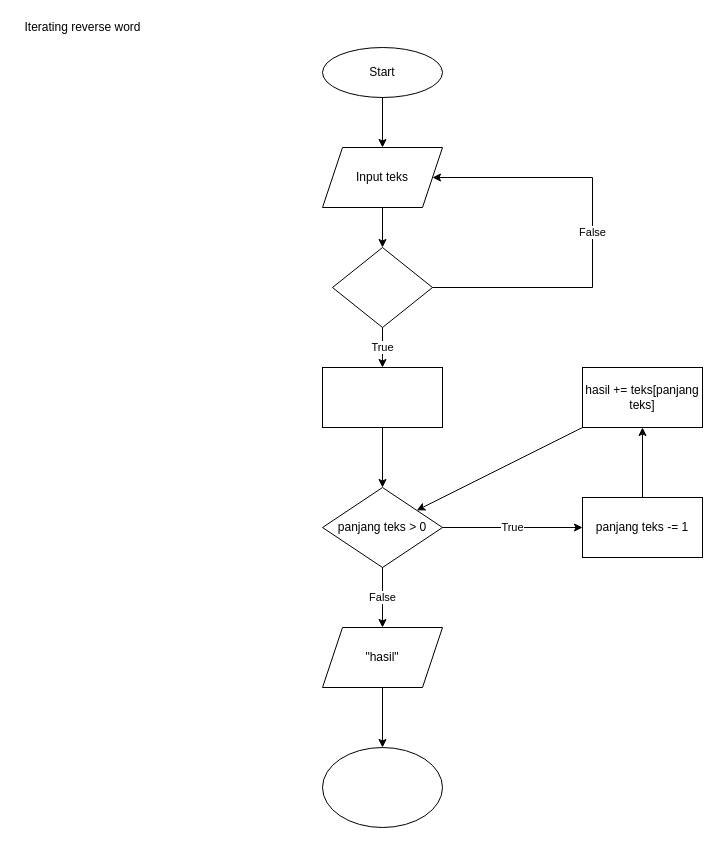
This 720x845 diagram has some shape labels left out. Here are the shapes that lost their labels. From the top down, the box of each, then its label:
(332, 246, 432, 328): teks.length > 0
(322, 366, 442, 428): panjangTeks = teks.length
(322, 746, 442, 828): End
